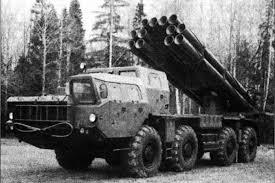MIL_SAM_TEL: (6, 14, 266, 176)
